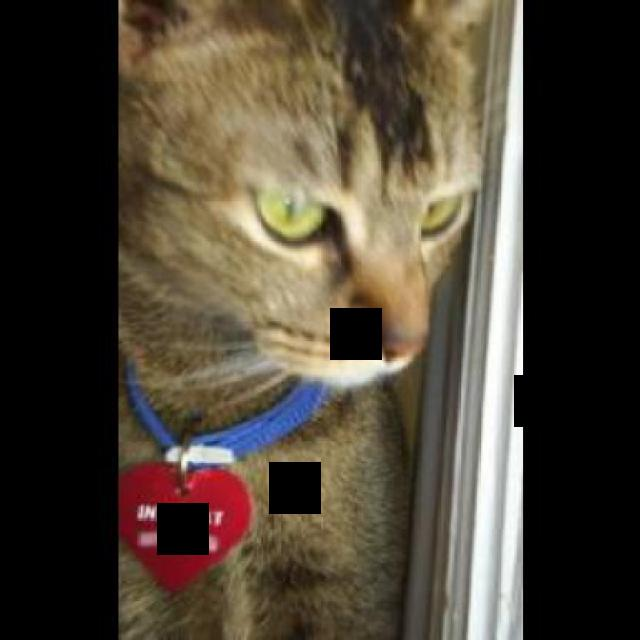unauthorized: (115, 0, 507, 638)
